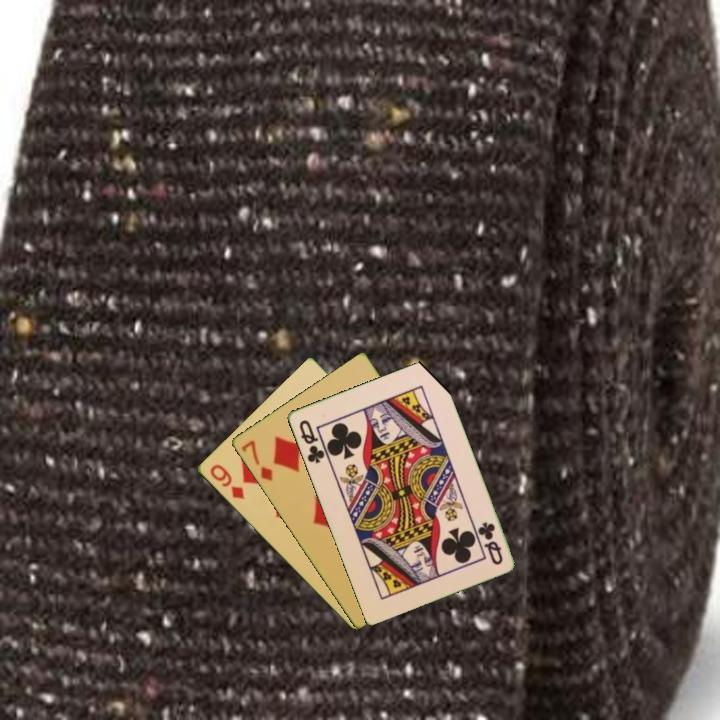7d: (237, 436, 275, 484)
9d: (206, 461, 247, 502)
Qc: (295, 416, 327, 466), (474, 518, 505, 568)
